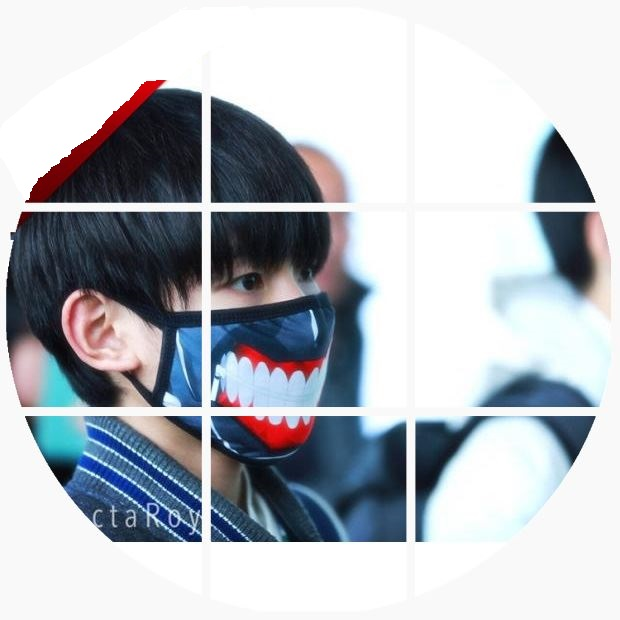face_mask: (150, 189, 332, 460)
